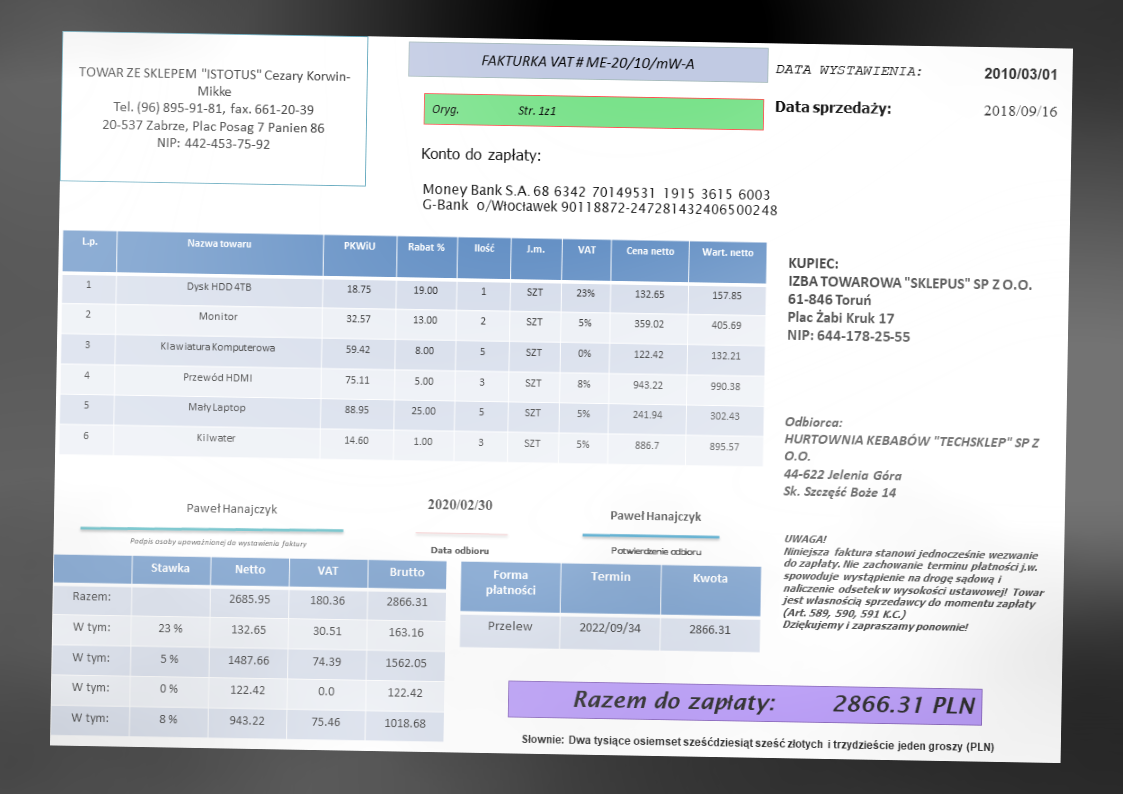Table: (57, 227, 768, 468), (51, 553, 448, 743), (459, 560, 762, 653)
TextBox: (781, 530, 1050, 637), (76, 64, 352, 153), (784, 252, 1034, 348), (781, 412, 1040, 504), (570, 684, 979, 722), (419, 181, 781, 218), (519, 730, 997, 757), (479, 52, 698, 74), (775, 60, 924, 81), (126, 534, 307, 551), (418, 144, 542, 166), (773, 97, 894, 119), (430, 102, 558, 120), (607, 507, 703, 527), (184, 498, 279, 517), (982, 102, 1061, 121), (981, 64, 1057, 83), (608, 544, 704, 559), (426, 495, 494, 515), (428, 543, 491, 557)
